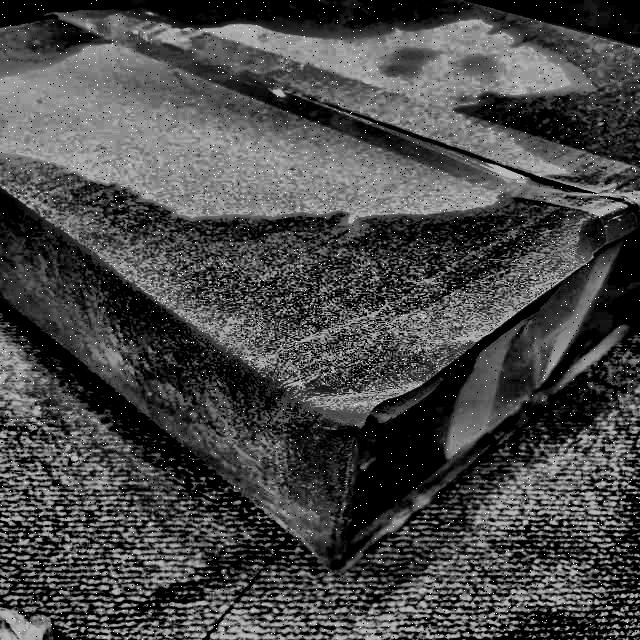box: (0, 0, 640, 582)
wet: (0, 199, 609, 566), (500, 21, 640, 167), (142, 0, 495, 33), (0, 2, 99, 94)
